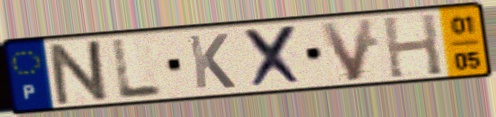H: (380, 11, 446, 80)
K: (185, 32, 239, 91)
L: (110, 37, 167, 101)
N: (47, 36, 114, 107)
V: (316, 15, 378, 84)
X: (242, 23, 308, 91)
